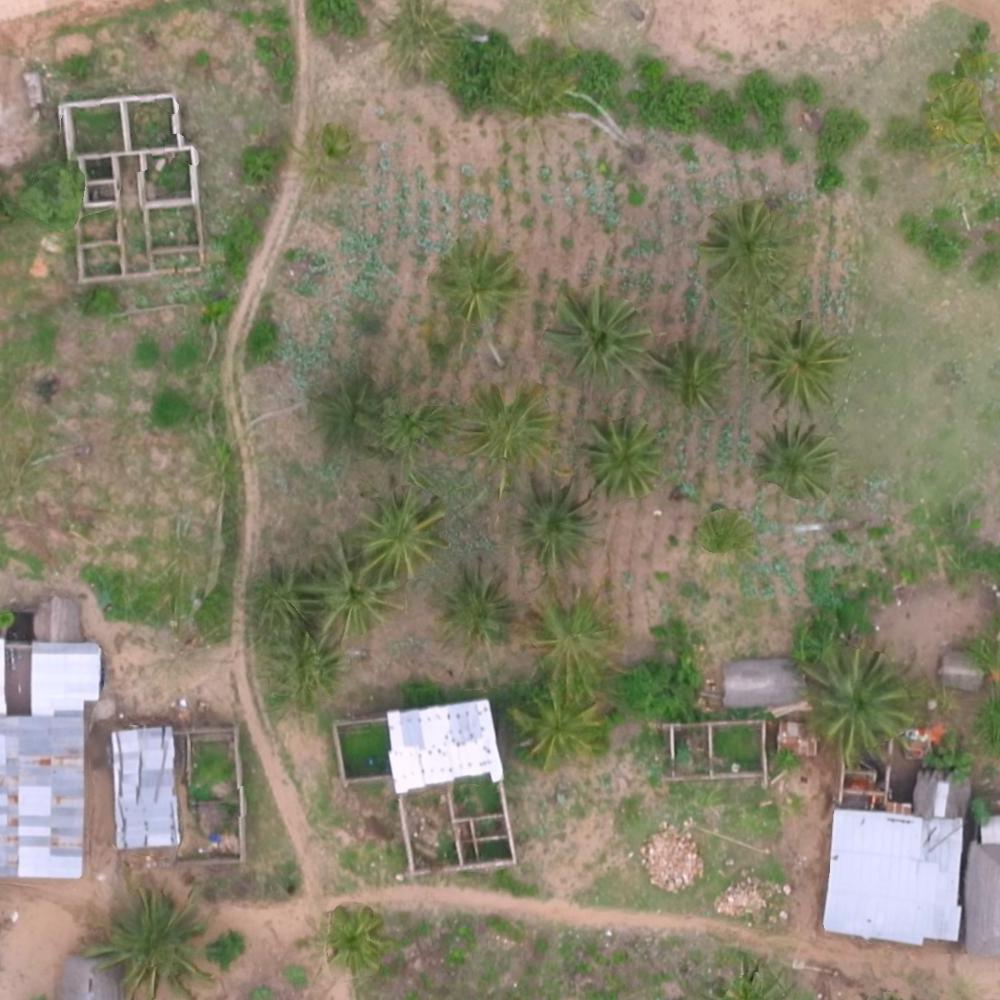Palm: (802, 649, 910, 758), (542, 282, 646, 381), (98, 889, 202, 988), (524, 581, 618, 676), (455, 384, 553, 475), (425, 243, 521, 328), (508, 482, 599, 571), (515, 682, 608, 768), (301, 546, 388, 636), (357, 490, 450, 574), (579, 415, 669, 499), (759, 319, 842, 408), (701, 204, 785, 284), (749, 425, 837, 501), (433, 569, 510, 649), (646, 341, 728, 416), (319, 906, 386, 972)
